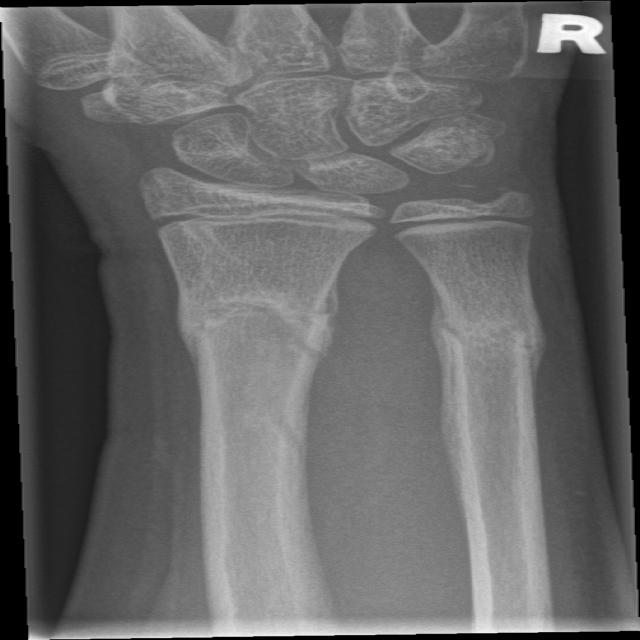radius fracture: (154, 250, 371, 498)
ulna fracture: (400, 272, 566, 482)
